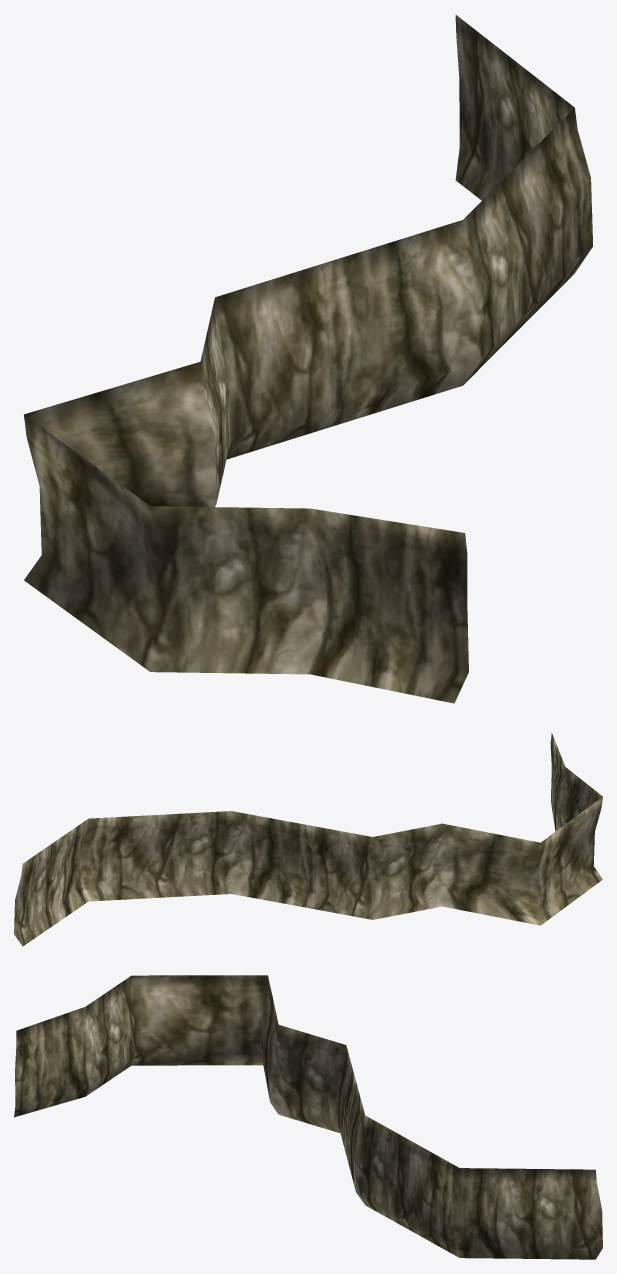
Rendered from CB_NEWPLAYSURFACE_CB_PLAYSURFACE119.fbx.
3 renders of one model, top to bottom at view 1: azimuth 30°, elevation 25°; view 2: azimuth 150°, elevation 25°; view 3: azimuth 270°, elevation 25°, orthographic. The views are drawn at different scales.
Parts seen in each view (by area): view 1: CB_NEWPLAYSURFACE_CB_PLAYSURFACE119; view 2: CB_NEWPLAYSURFACE_CB_PLAYSURFACE119; view 3: CB_NEWPLAYSURFACE_CB_PLAYSURFACE119.
Part boxes in pixels (x1,y1,x2,y2): CB_NEWPLAYSURFACE_CB_PLAYSURFACE119: [24, 15, 592, 703]; CB_NEWPLAYSURFACE_CB_PLAYSURFACE119: [14, 732, 602, 946]; CB_NEWPLAYSURFACE_CB_PLAYSURFACE119: [14, 975, 602, 1259].
Bounding box in the file's own units: 187882 × 40000 × 237125.
Materials: 1 (1 with a texture image).
